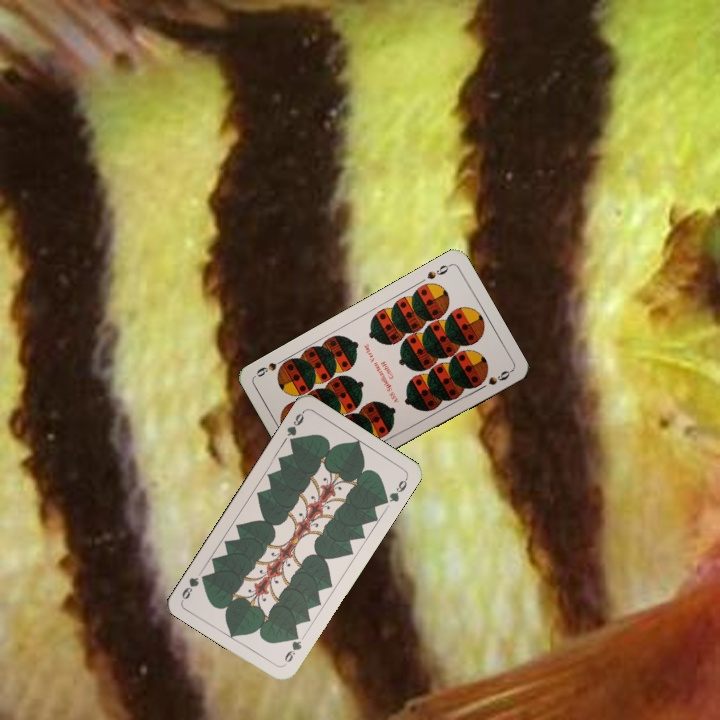G9: (283, 407, 307, 447), (280, 629, 304, 668)
S9: (423, 260, 453, 282)
